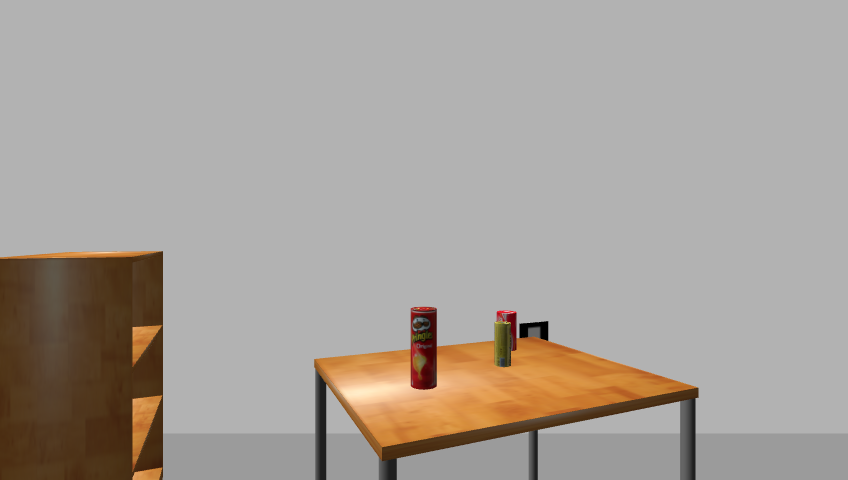aruco marker: (518, 320, 552, 345)
biscuits pack: (493, 321, 511, 368)
bookshelf: (0, 249, 171, 480)
coke can: (495, 310, 518, 354)
dinner table: (304, 334, 707, 480)
pringles can: (408, 306, 440, 392)
